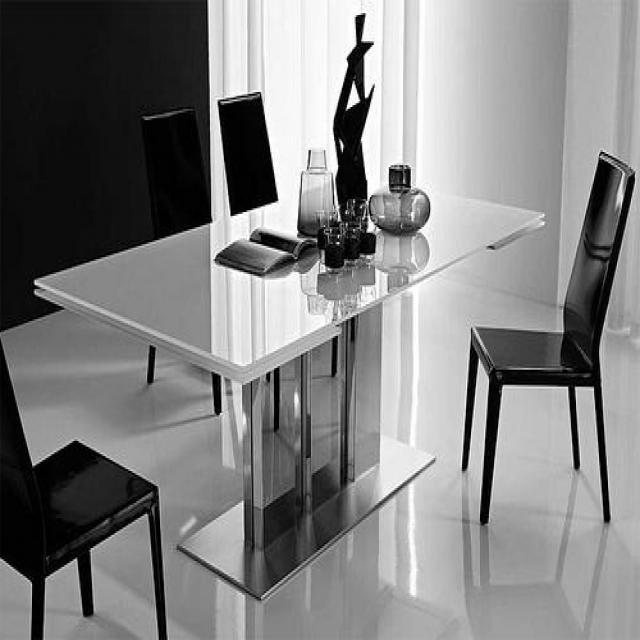chair: (456, 142, 638, 526), (1, 294, 169, 638)
table: (35, 156, 550, 606)
